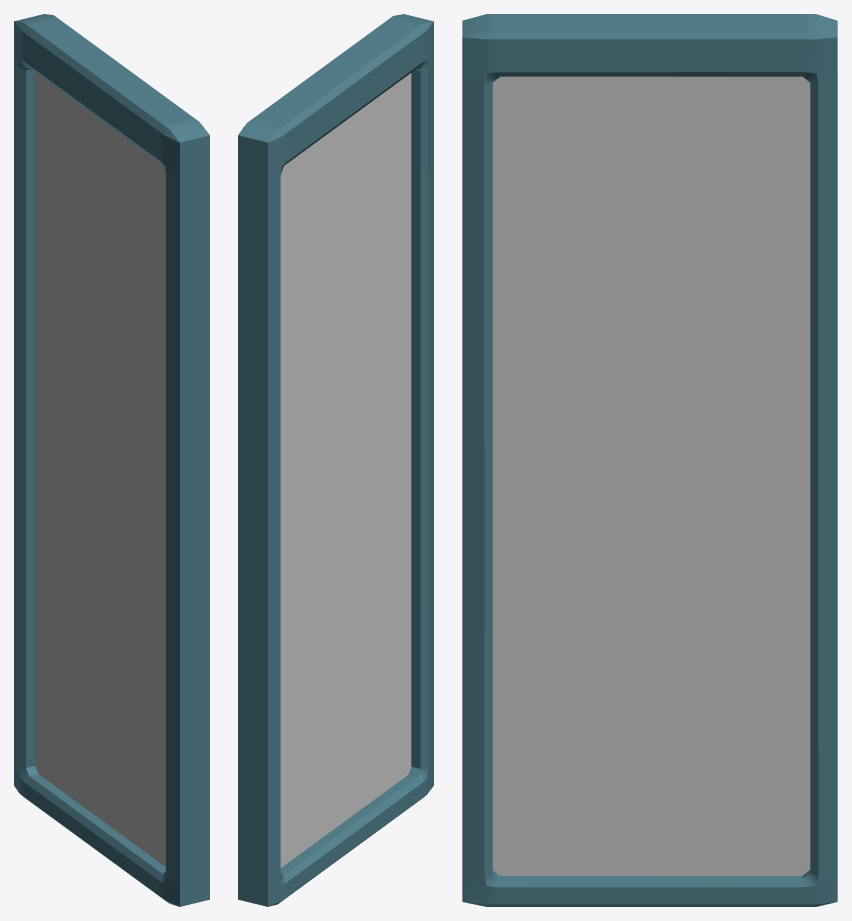
Rendered from bus_backDoor_02_mdl.fbx.
3 views of the same model, side by side, from view 1: azimuth 30°, elevation 25°; view 2: azimuth 150°, elevation 25°; view 3: azimuth 270°, elevation 25° (orthographic). The views are drawn at different scales.
Parts seen in each view (by area): view 1: bus_backDoor_02_mdl; view 2: bus_backDoor_02_mdl; view 3: bus_backDoor_02_mdl.
Part boxes in pixels (x1,y1,x2,y2): bus_backDoor_02_mdl: [14, 14, 209, 906]; bus_backDoor_02_mdl: [238, 14, 433, 906]; bus_backDoor_02_mdl: [462, 14, 837, 906].
Size of the model in its own units: 0.101 by 1.96 by 0.7616.
